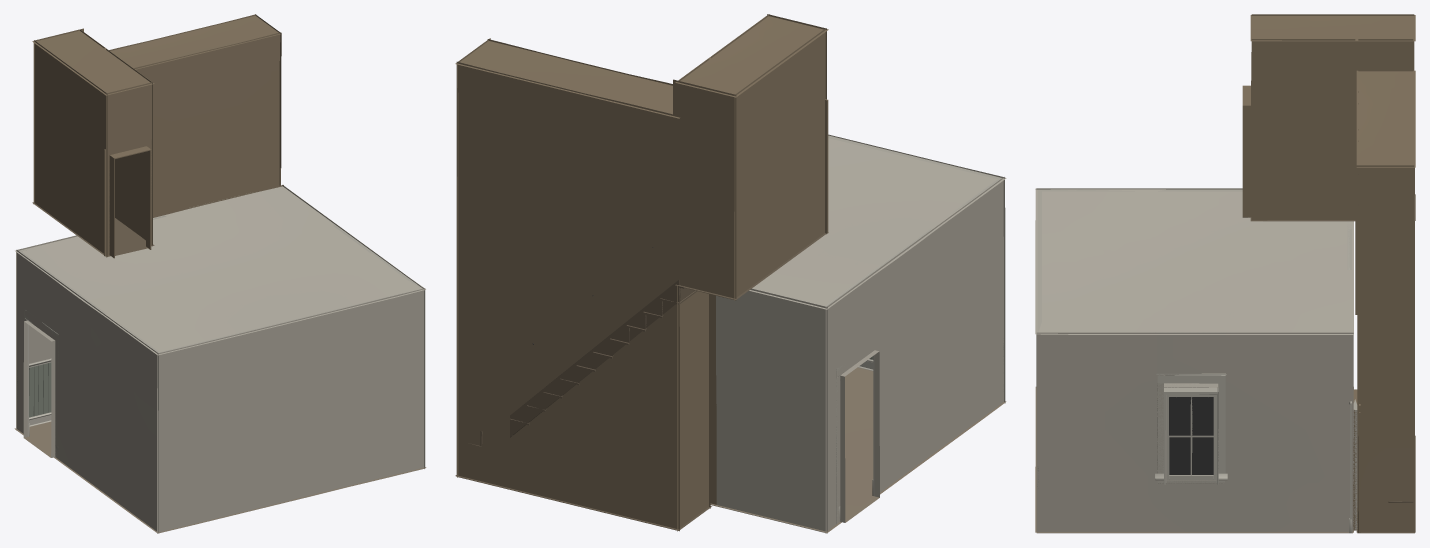
Rendered from house_kitchen.glb.
3 views of the same model, side by side, from view 1: azimuth 30°, elevation 25°; view 2: azimuth 150°, elevation 25°; view 3: azimuth 270°, elevation 25° (orthographic). The views are drawn at different scales.
Visible parts, largest first — view 1: G3, U4, U4T; view 2: U4, G3, U4T, U4_stair; view 3: G3, U4, U4T, G3_glass_O_G3_E.
Boxes of the visible parts, <box> form: G3: <box>14,185,426,533</box>; U4: <box>109,14,281,216</box>; U4T: <box>32,28,154,258</box>; U4: <box>455,38,711,531</box>; G3: <box>710,134,1006,533</box>; U4T: <box>673,14,828,300</box>; U4_stair: <box>472,247,697,446</box>; G3: <box>1035,188,1357,533</box>; U4: <box>1355,70,1415,533</box>; U4T: <box>1242,14,1415,221</box>; G3_glass_O_G3_E: <box>1169,397,1213,474</box>.
Size of the model in its own units: 5.38 by 6.45 by 5.56.
